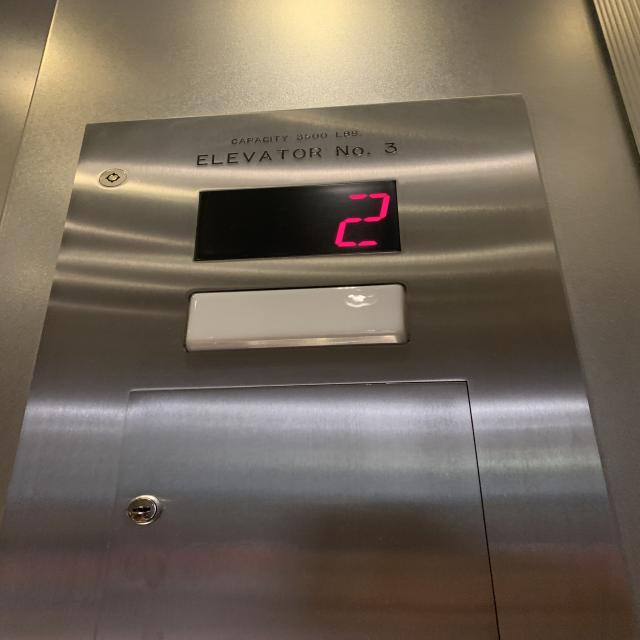box: (186, 186, 410, 263)
